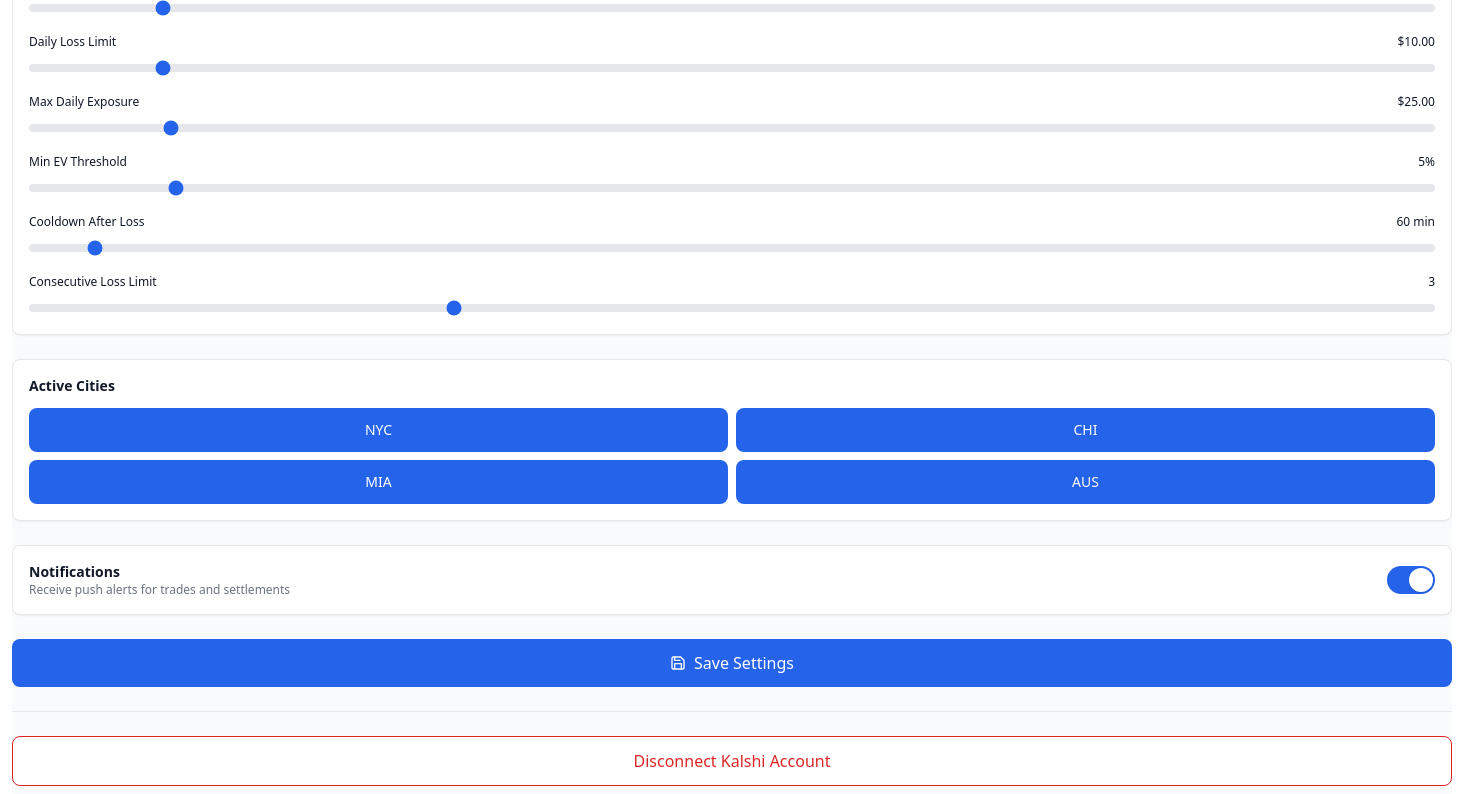
Test case: SettingsPage › shows save success message
(page scrolled)
Click the button "Save Settings": (732, 663) [12, 639, 1452, 687]
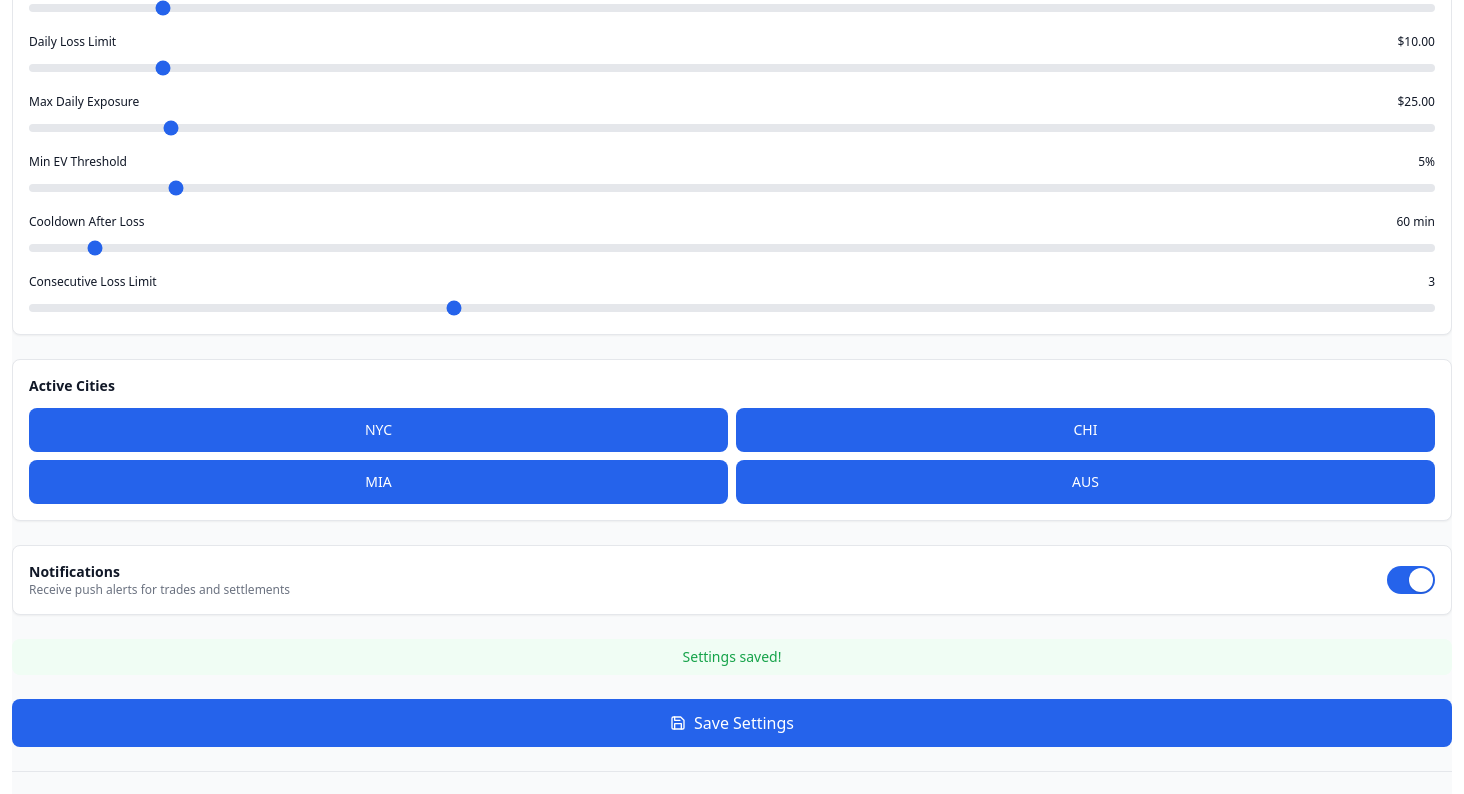
Now the text "Settings saved!" is shown, box [12, 639, 1452, 675]
